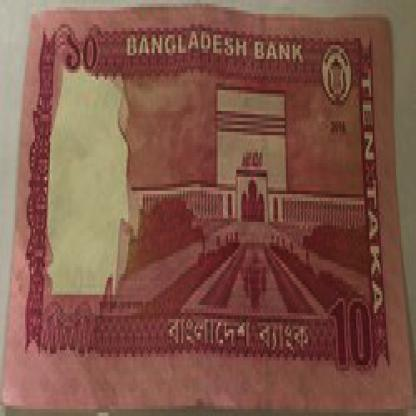Ten Taka: (306, 249, 370, 378), (60, 28, 115, 90)
